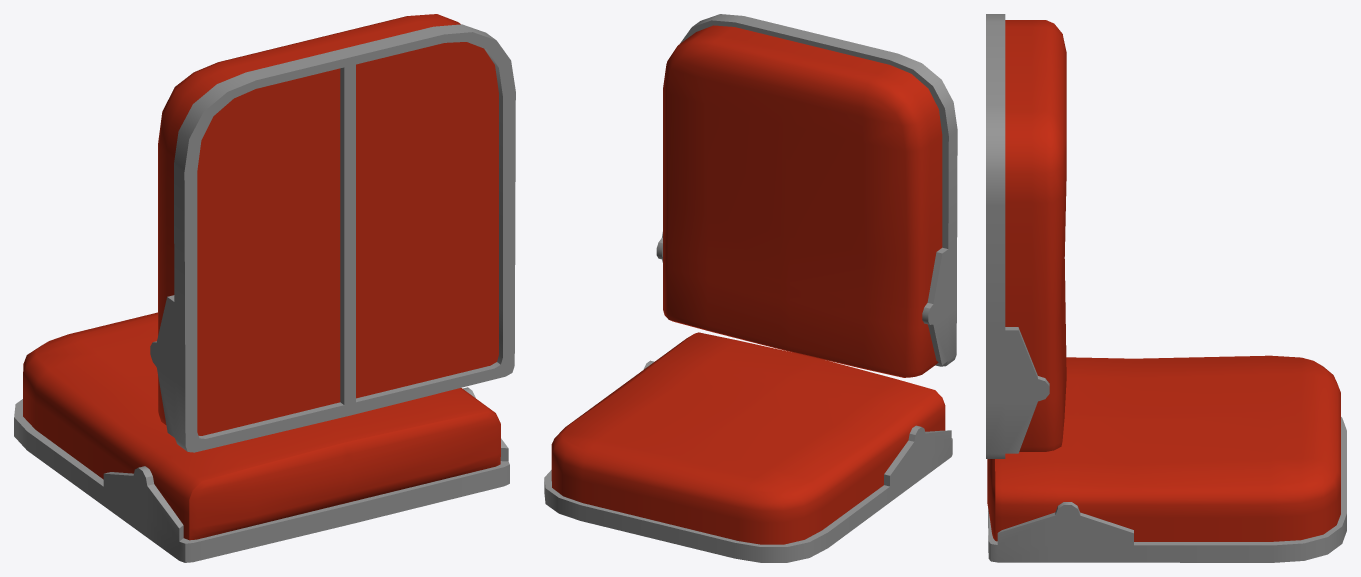
Rendered from test_chair.FBX.
3 renders of one model, left to right at view 1: azimuth 30°, elevation 25°; view 2: azimuth 150°, elevation 25°; view 3: azimuth 270°, elevation 25°, orthographic. The views are drawn at different scales.
Visible parts, largest first — view 1: Box005, Box009; view 2: Box005, Box009; view 3: Box009, Box005.
Boxes of the visible parts, <box> form: Box005: <box>150,14,515,452</box>; Box009: <box>14,312,509,562</box>; Box005: <box>656,14,957,377</box>; Box009: <box>544,332,952,562</box>; Box009: <box>987,355,1346,562</box>; Box005: <box>986,14,1066,458</box>.
Size of the model in its own units: 67.96 by 91.7 by 70.5.
